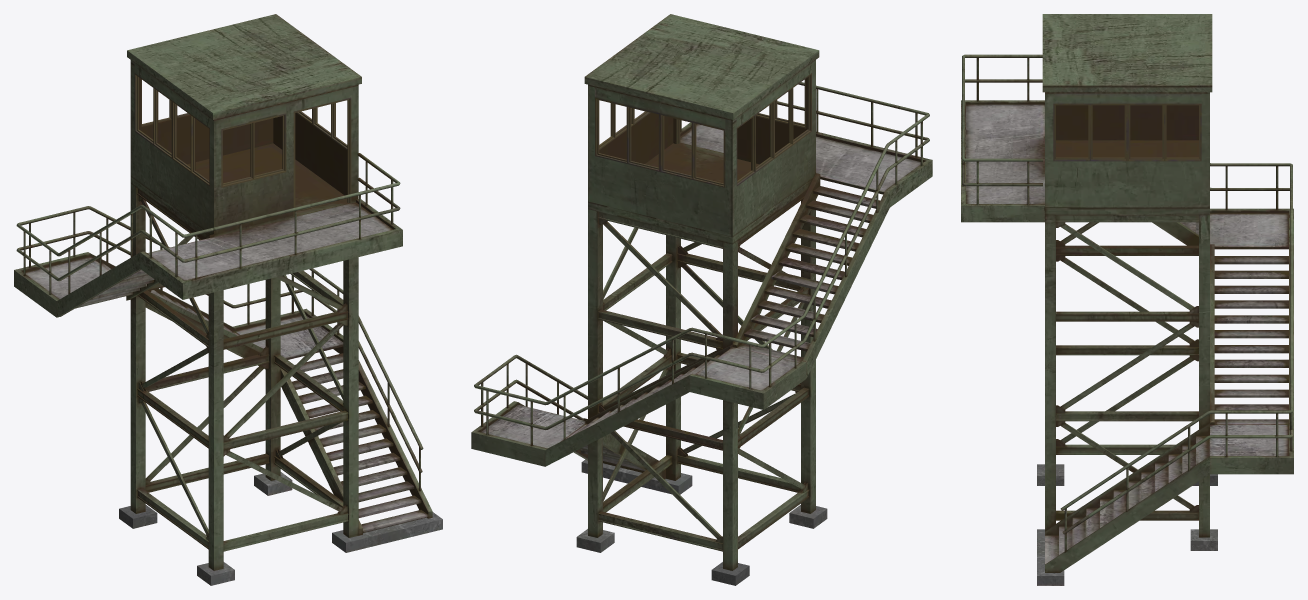
Rendered from base_mil_tower.glb.
The picture shows the model from 3 angles, left to right: view 1: azimuth 30°, elevation 25°; view 2: azimuth 150°, elevation 25°; view 3: azimuth 270°, elevation 25°; orthographic projection.
Visible parts, largest first — view 1: base_mil_tower; view 2: base_mil_tower; view 3: base_mil_tower.
Part boxes in pixels (x1,y1,x2,y2): base_mil_tower: [14, 14, 442, 585]; base_mil_tower: [471, 14, 932, 585]; base_mil_tower: [961, 14, 1293, 585].
Bounding box in the file's own units: 6.19 × 9.3 × 6.06.
Materials: 1 (1 with a texture image).
